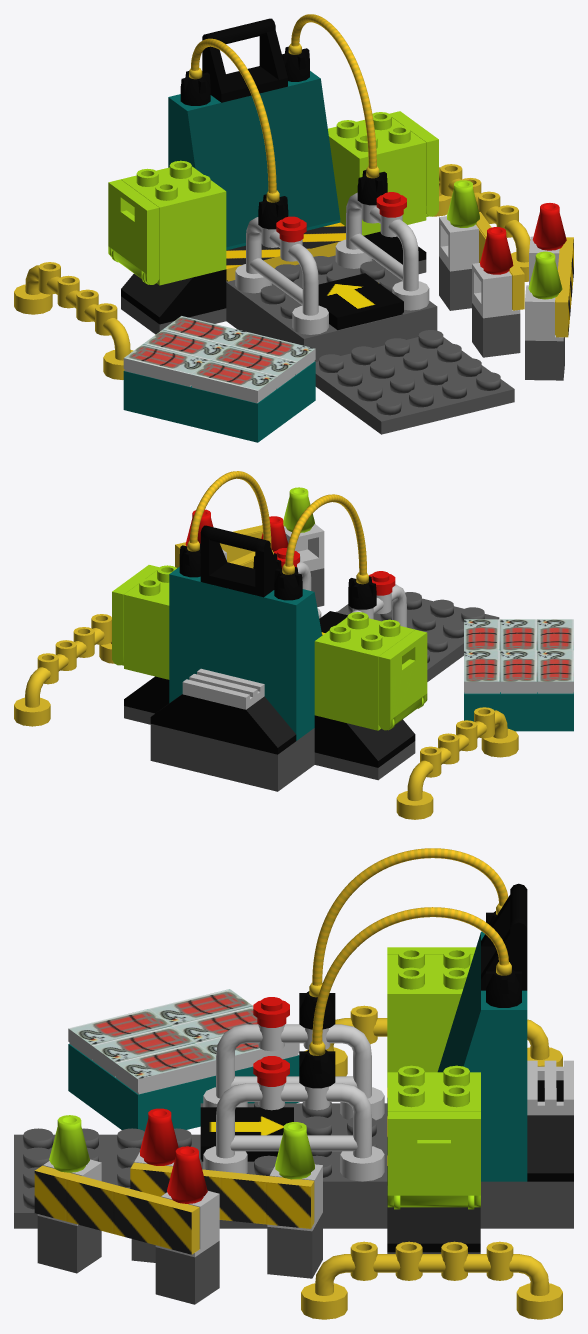
The model's file is ToolStore.fbx.
3 renders of one model, top to bottom at view 1: azimuth 30°, elevation 25°; view 2: azimuth 150°, elevation 25°; view 3: azimuth 270°, elevation 25°, orthographic. The views are drawn at different scales.
Visible parts, largest first — view 1: 0_Toolstore_Building, 3_Toolstore_DynamiteBrick, 2_Toolstore_Barricade2, 1_Toolstore_Barricade1, 5_Toolstore_RackLeft, 4_Toolstore_RackRight; view 2: 0_Toolstore_Building, 3_Toolstore_DynamiteBrick, 5_Toolstore_RackLeft, 4_Toolstore_RackRight, 1_Toolstore_Barricade1, 2_Toolstore_Barricade2; view 3: 0_Toolstore_Building, 1_Toolstore_Barricade1, 3_Toolstore_DynamiteBrick, 2_Toolstore_Barricade2, 4_Toolstore_RackRight, 5_Toolstore_RackLeft.
Boxes of the visible parts, box(x1,y1,x2,y2) form: 0_Toolstore_Building: box(108, 14, 514, 434); 3_Toolstore_DynamiteBrick: box(123, 316, 315, 442); 2_Toolstore_Barricade2: box(439, 180, 524, 357); 1_Toolstore_Barricade1: box(525, 203, 573, 380); 5_Toolstore_RackLeft: box(14, 262, 133, 379); 4_Toolstore_RackRight: box(433, 164, 530, 281); 0_Toolstore_Building: box(112, 471, 499, 791); 3_Toolstore_DynamiteBrick: box(464, 619, 573, 731); 5_Toolstore_RackLeft: box(396, 707, 518, 819); 4_Toolstore_RackRight: box(14, 614, 114, 726); 1_Toolstore_Barricade1: box(175, 487, 324, 606); 2_Toolstore_Barricade2: box(229, 516, 300, 568); 0_Toolstore_Building: box(14, 848, 573, 1253); 1_Toolstore_Barricade1: box(34, 1115, 219, 1304); 3_Toolstore_DynamiteBrick: box(68, 989, 299, 1131); 2_Toolstore_Barricade2: box(130, 1108, 322, 1278); 4_Toolstore_RackRight: box(301, 1241, 562, 1319); 5_Toolstore_RackLeft: box(304, 1005, 562, 1076).
Size of the model in its own units: 94.75 by 51.32 by 83.58.
